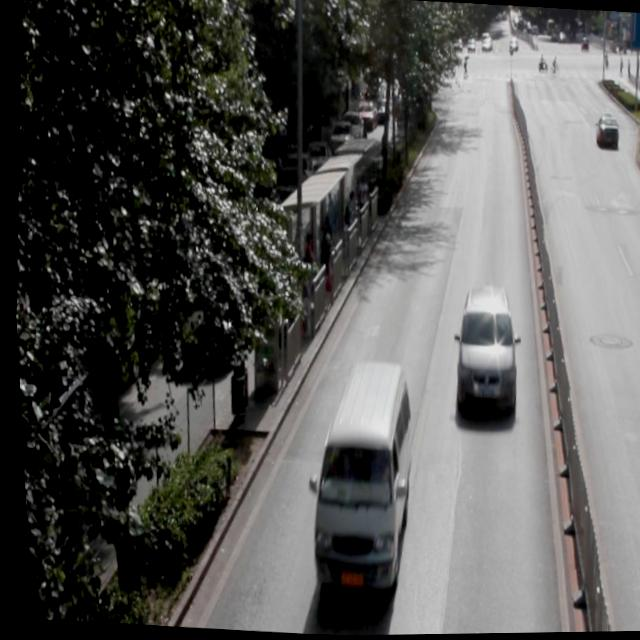car: (445, 284, 517, 408), (590, 113, 617, 153)
truck: (294, 357, 412, 593)
